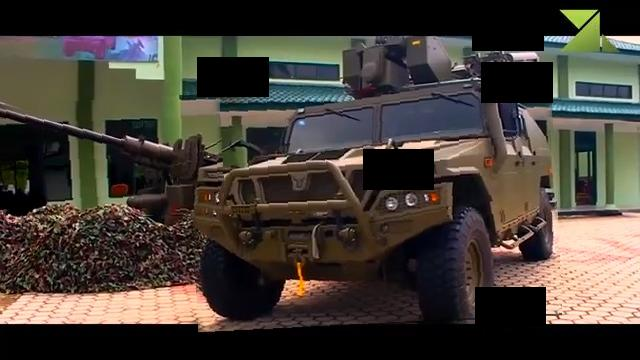MIL_HMMWV: (189, 85, 560, 330), (0, 96, 223, 221)
